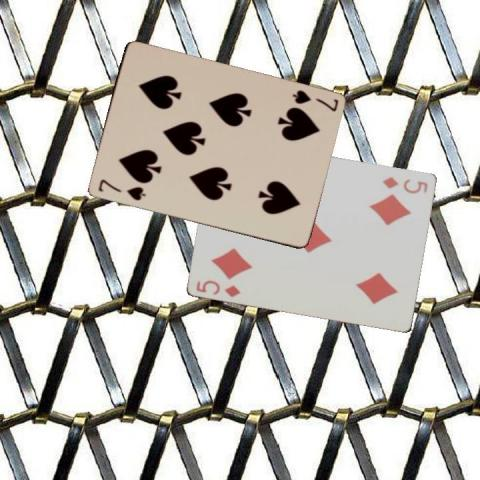5d: (379, 173, 430, 195), (193, 277, 243, 298)
7s: (94, 176, 146, 203), (289, 87, 339, 113)
